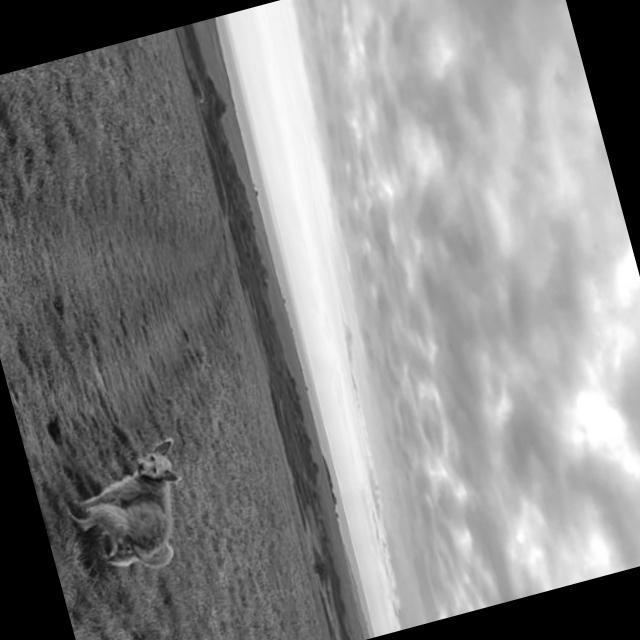squatting: (48, 421, 209, 593)
